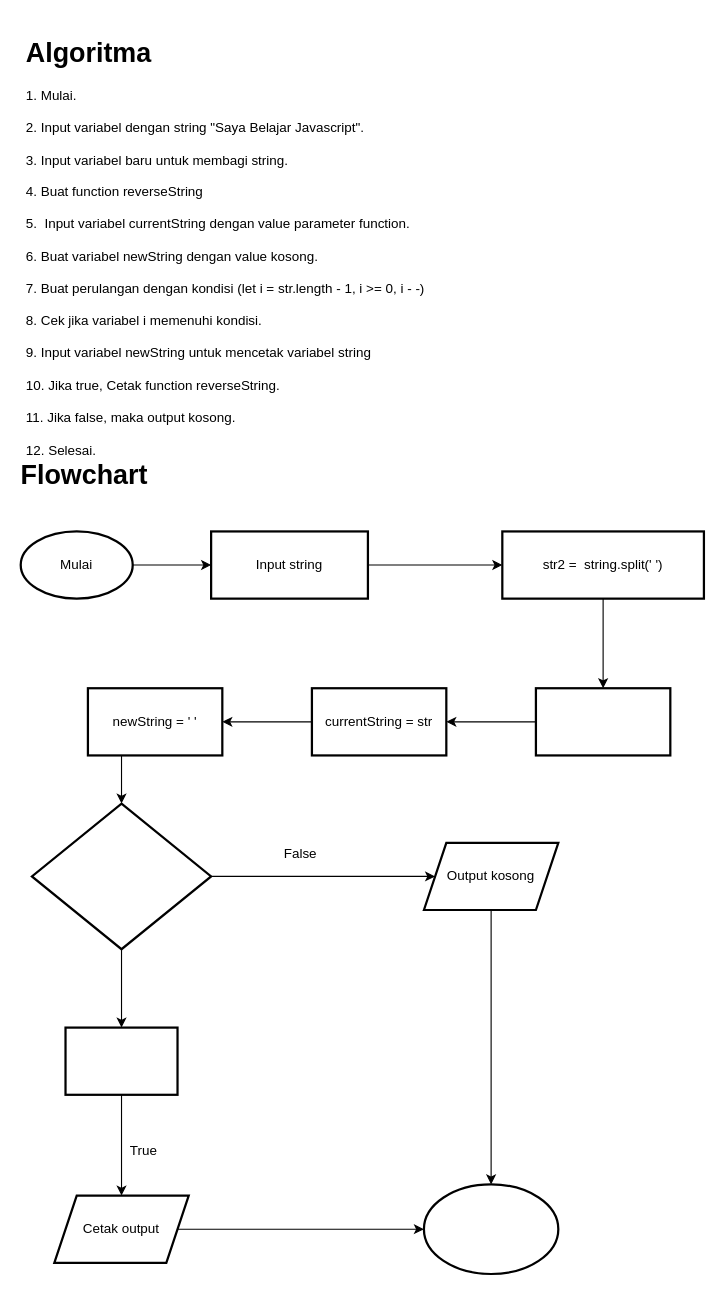
Some shapes in this 724 by 1294 pixel diagram are drawn without their labels. Here are the shapes that lost their labels. From the top down, the centre of each, then its label:
[602,721]: Buat function reverse String
[121,876]: let i = string.length - 1, i >= 0, i--
[121,1060]: newString = newString + ' ' + currentString[i]
[490,1229]: Selesai
